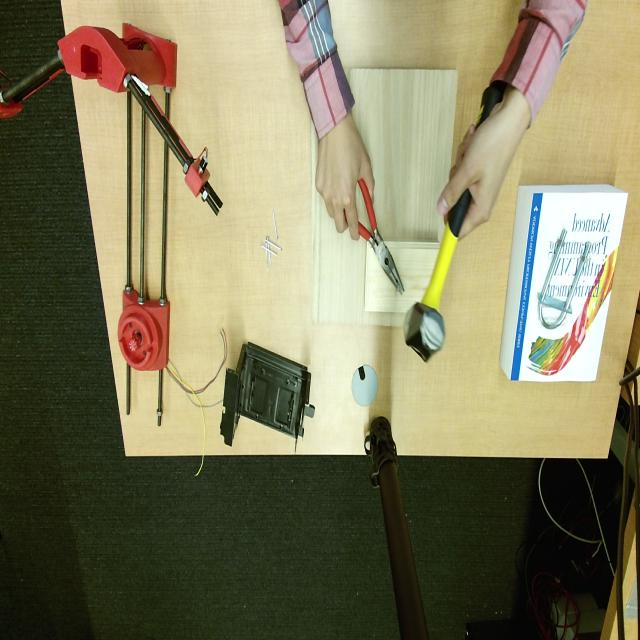hammer: (404, 189, 471, 361)
pliers: (358, 178, 404, 293)
